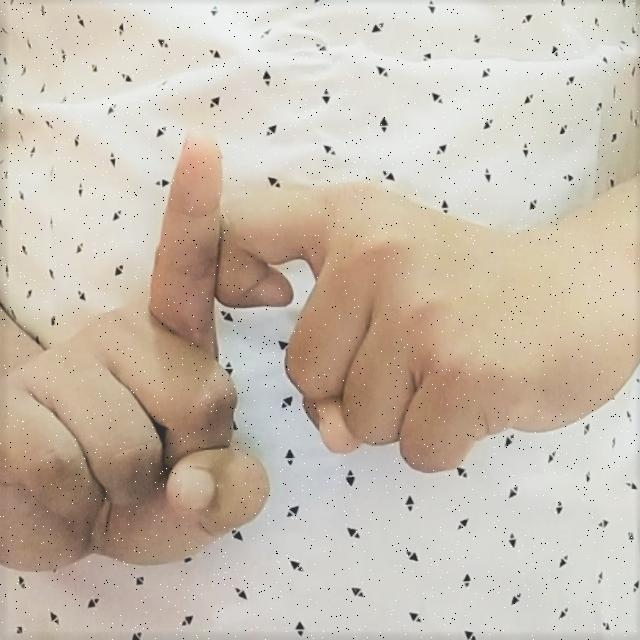K: (12, 114, 569, 578)
